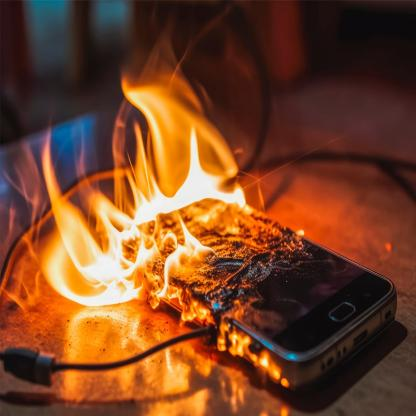fire: (0, 21, 266, 329)
